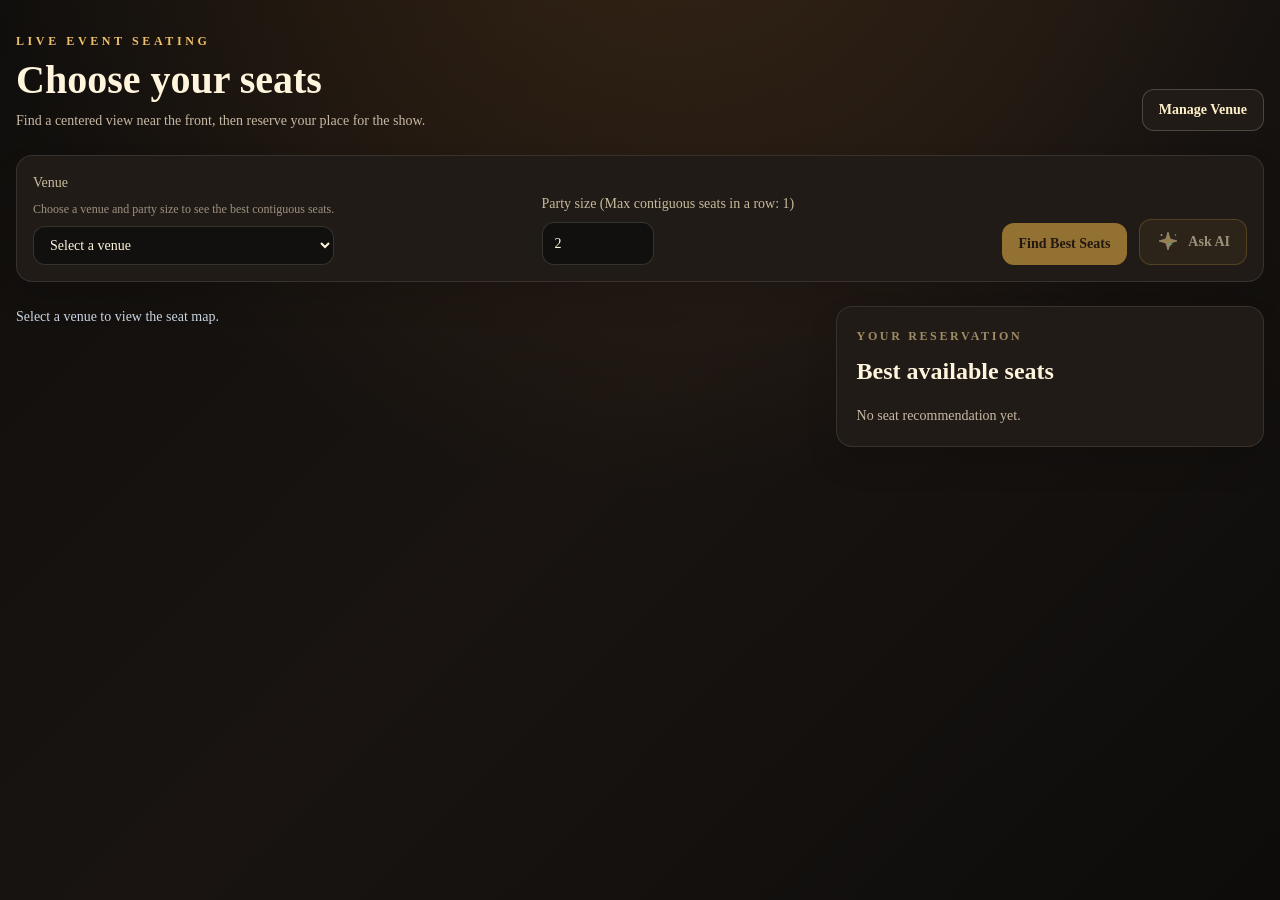
Scenario: App › fetches the venue and shows the best available seats for a party size
This screenshot has width=1280, height=900.
Expected: the heading "Choose your seats" is shown, [16, 57, 322, 102]
Expected: the text "Choose a venue and party size to see the best contiguous seats." is shown, [33, 201, 334, 218]
Select "Main Hall" in the dropdown labelled "Venue" at {"x": 184, "y": 245}, box [33, 226, 334, 265]
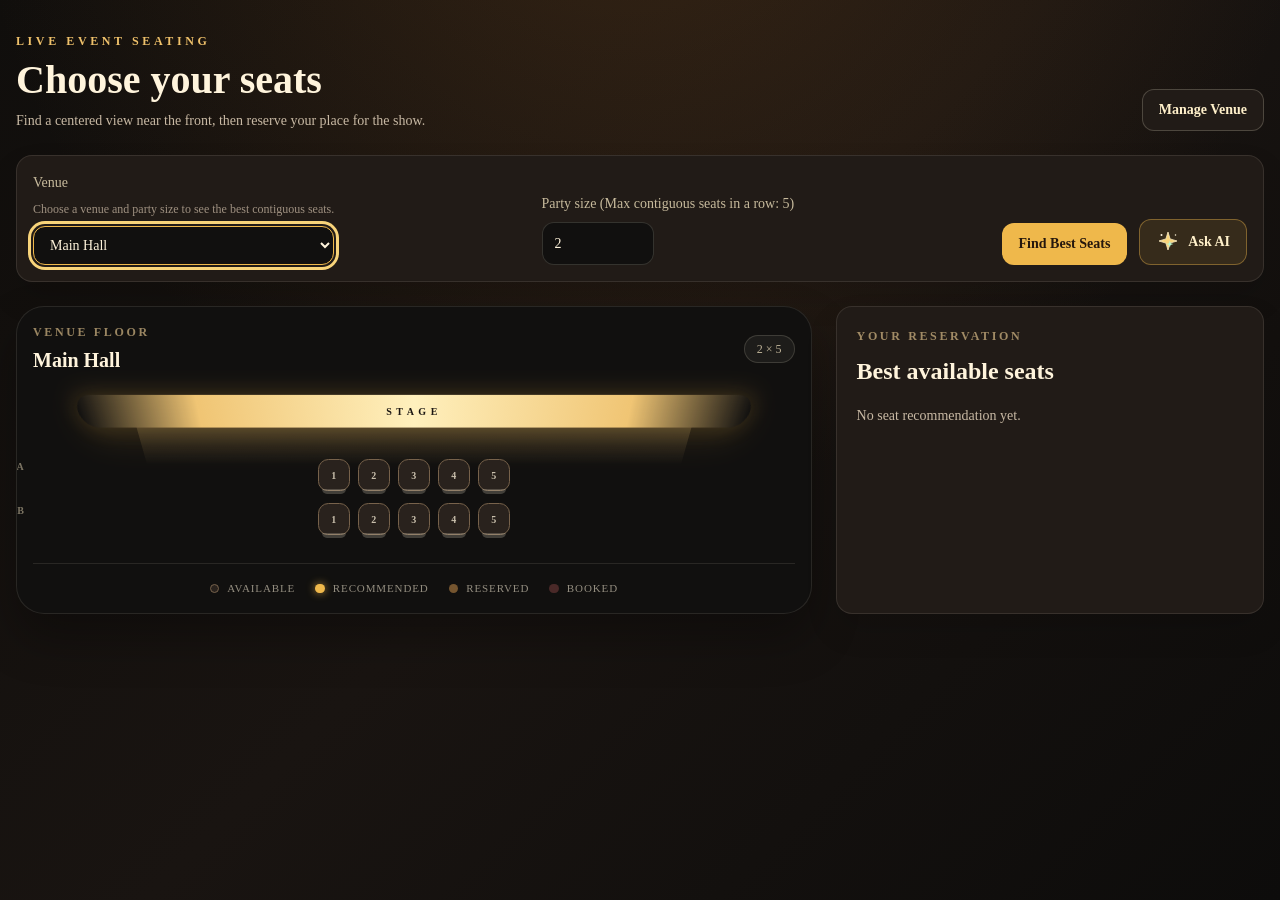
Result: the heading "Main Hall" is shown at [33, 349, 120, 371]
Replace the text in the number field labelled "Party size (Max contiguous seats in a row: 5)" with "9" at {"x": 598, "y": 243}, box [542, 222, 654, 265]
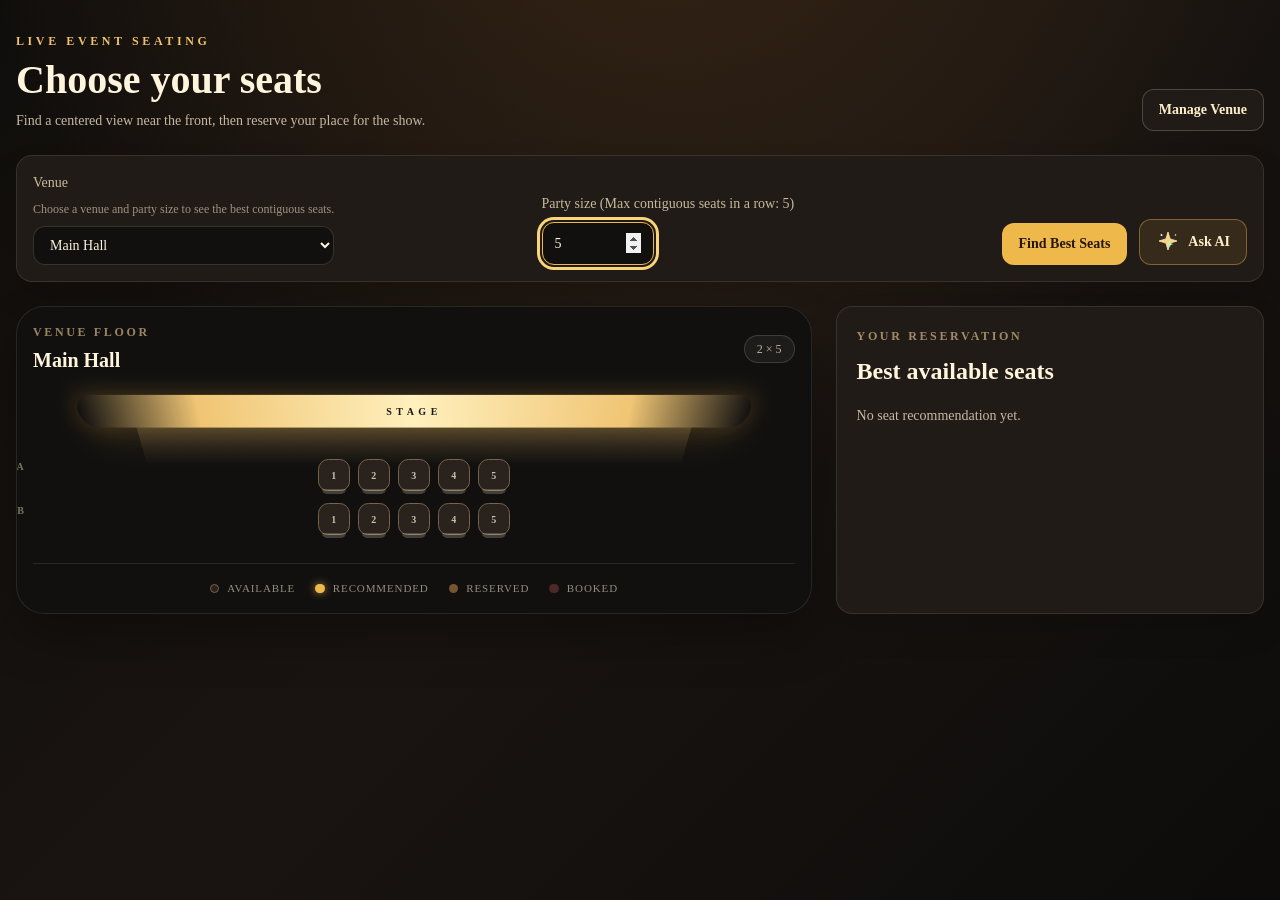
Result: the number field labelled "Party size (Max contiguous seats in a row: 5)" holds "5"
Replace the text in the number field labelled "Party size (Max contiguous seats in a row: 5)" with "2" at {"x": 598, "y": 243}, box [542, 222, 654, 265]
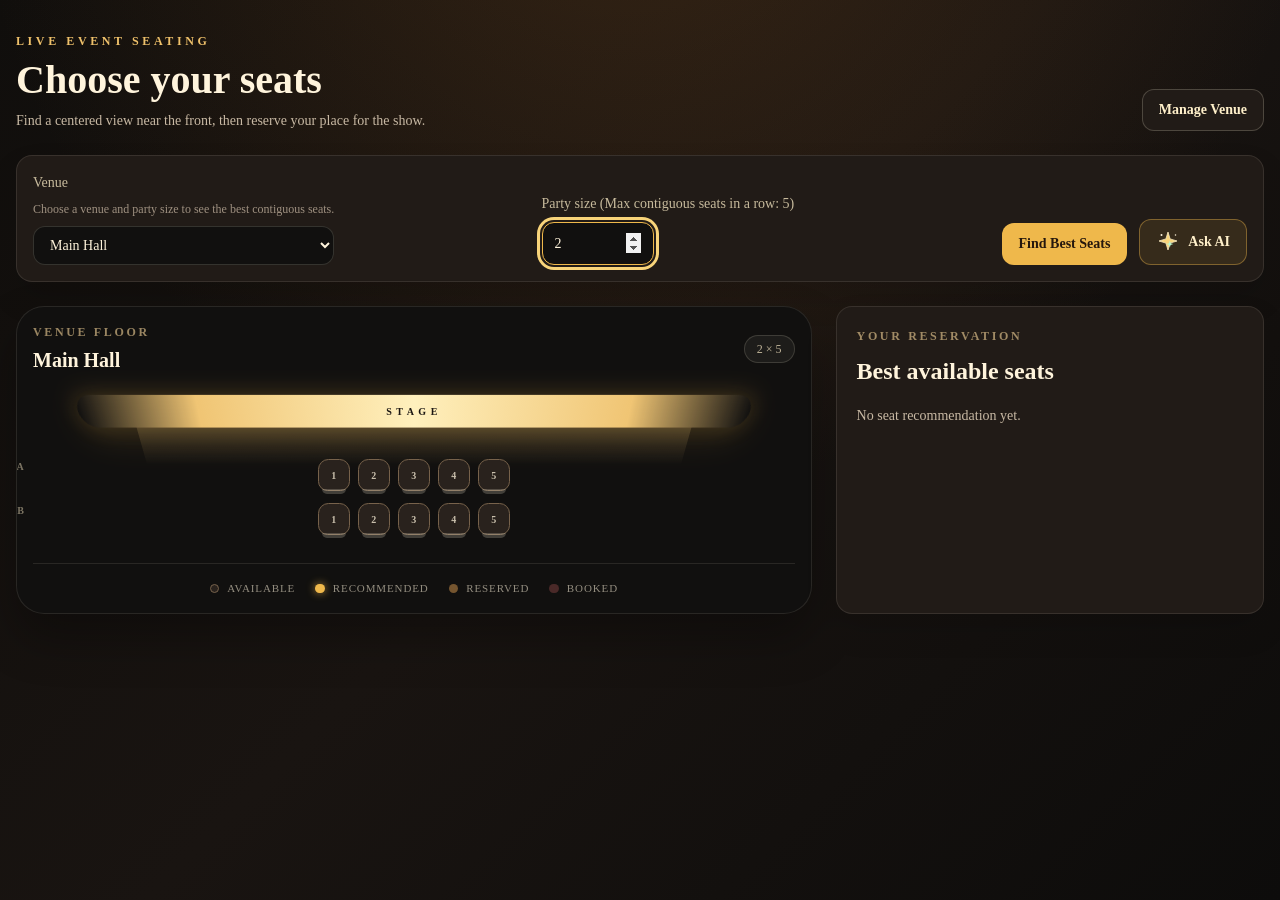
Click the button "Find Best Seats" at {"x": 1064, "y": 244}, box [1002, 223, 1127, 265]
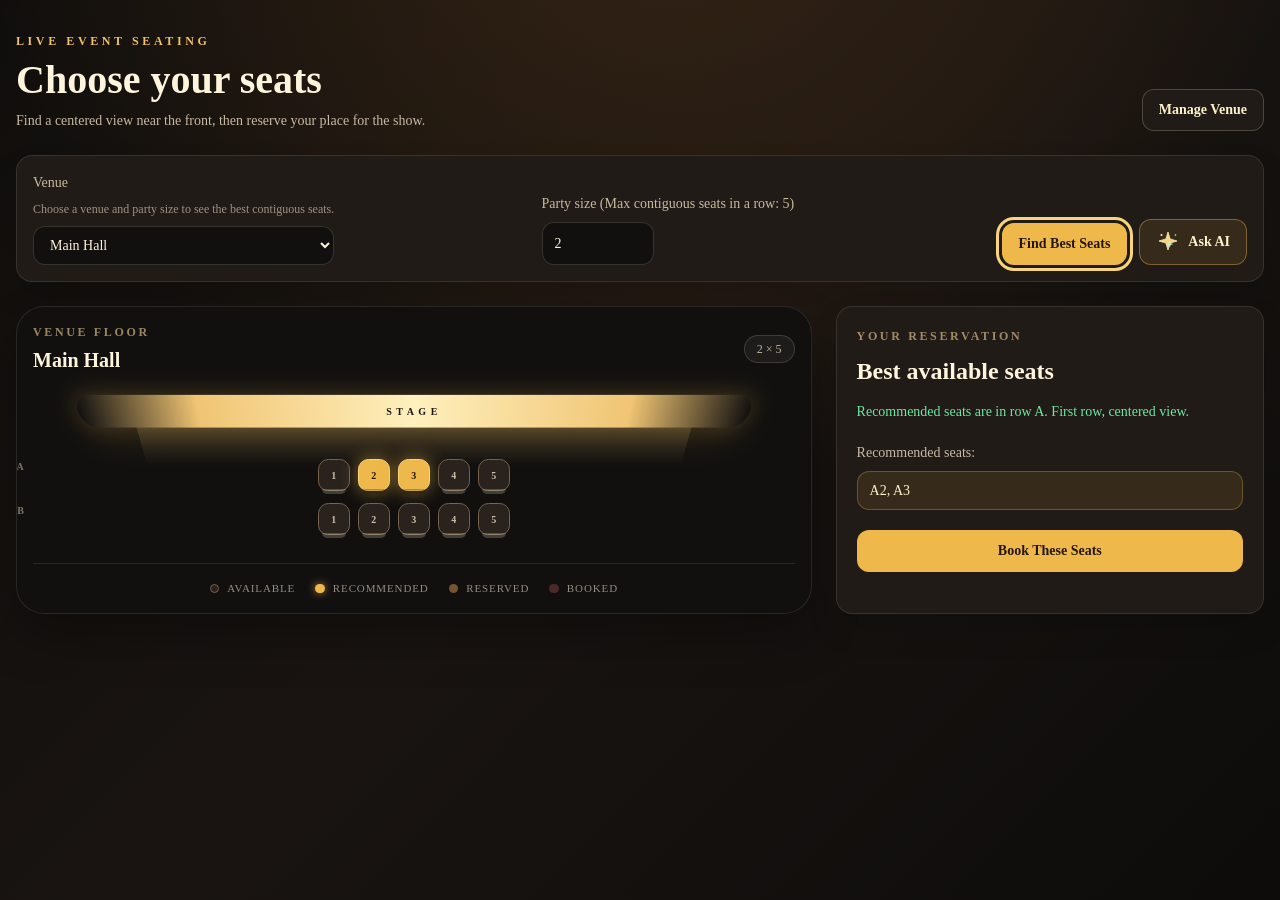
Result: the text "Recommended seats are in row A. First row, centered view." is shown at [857, 401, 1243, 422]
Result: the text "A2, A3" is shown at [857, 471, 1243, 510]
Click the button "Book These Seats" at {"x": 1050, "y": 551}, box [857, 530, 1243, 572]
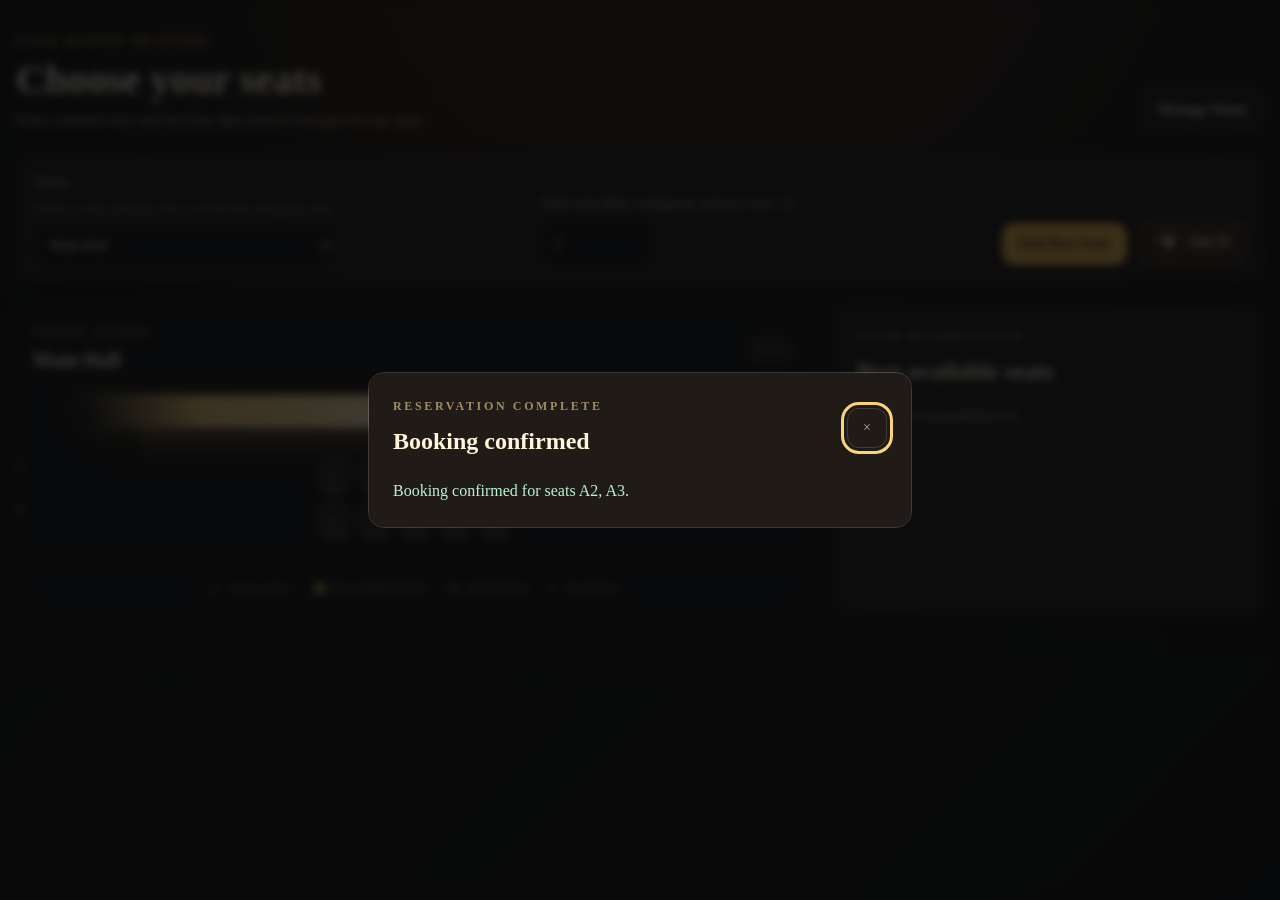
Result: the text "Booking confirmed for seats A2, A3." is shown at [393, 482, 629, 499]
Result: the button "Book These Seats" is gone
Click the button named "close booking confirmation" at {"x": 867, "y": 428}, box [847, 408, 887, 448]
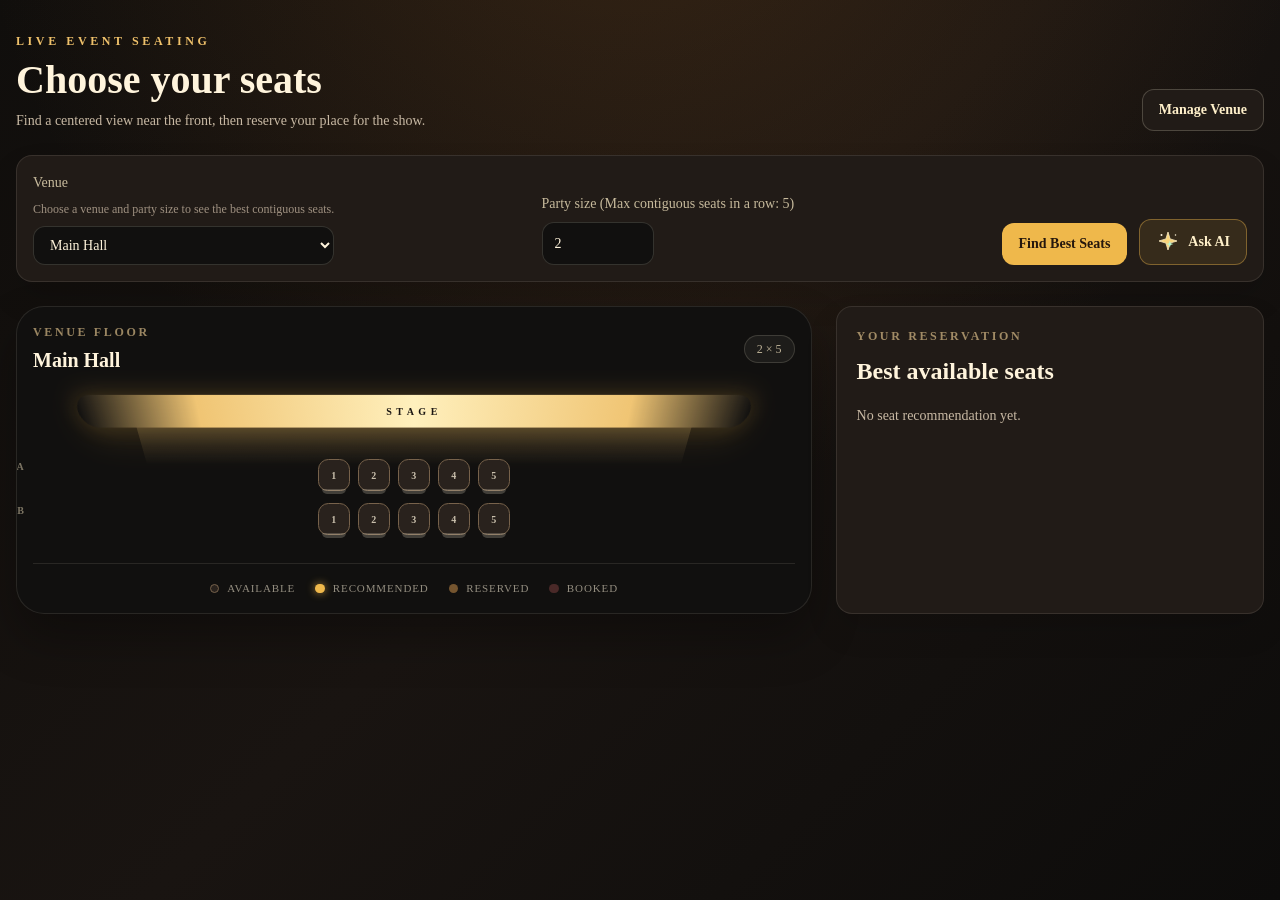
Result: the heading "Booking confirmed" is gone
